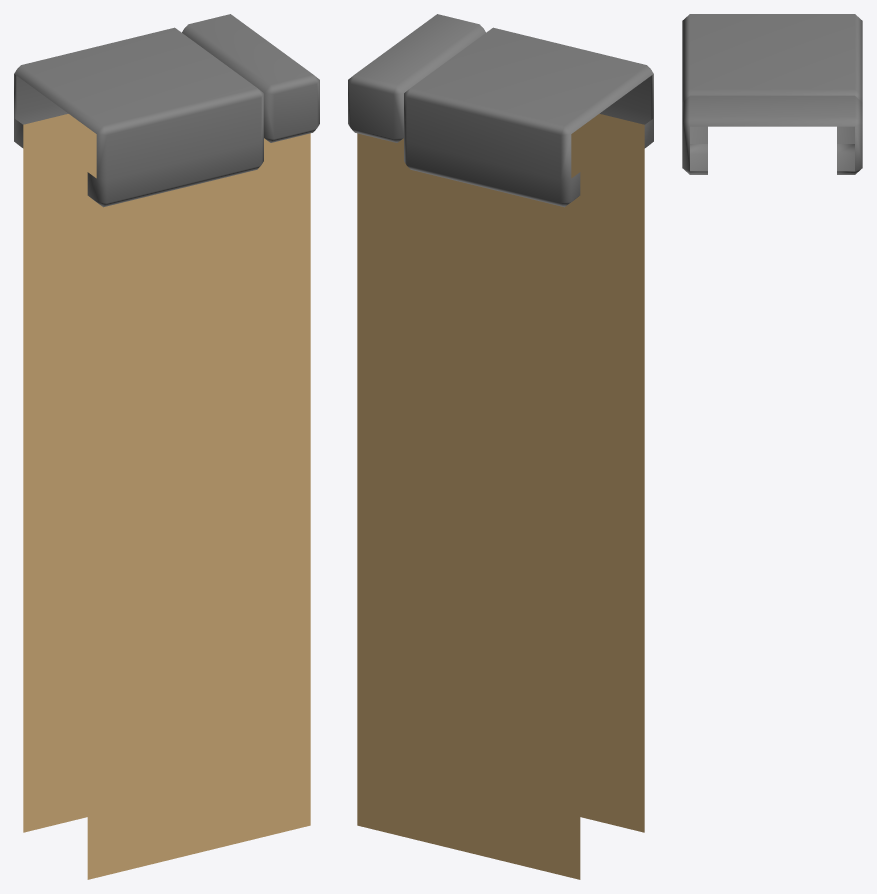
Rendered from SM_WallA_2x6_LOD0.fbx.
3 renders of one model, left to right at view 1: azimuth 30°, elevation 25°; view 2: azimuth 150°, elevation 25°; view 3: azimuth 270°, elevation 25°, orthographic.
Visible parts, largest first — view 1: SM_WallA_2x6_LOD0; view 2: SM_WallA_2x6_LOD0; view 3: SM_WallA_2x6_LOD0.
Boxes of the visible parts, left/top/right/bottom form: SM_WallA_2x6_LOD0: left=14, top=14, right=319, bottom=879; SM_WallA_2x6_LOD0: left=348, top=14, right=653, bottom=879; SM_WallA_2x6_LOD0: left=682, top=14, right=862, bottom=174.
Bounding box in the file's own units: 2 × 6.5 × 1.4.
